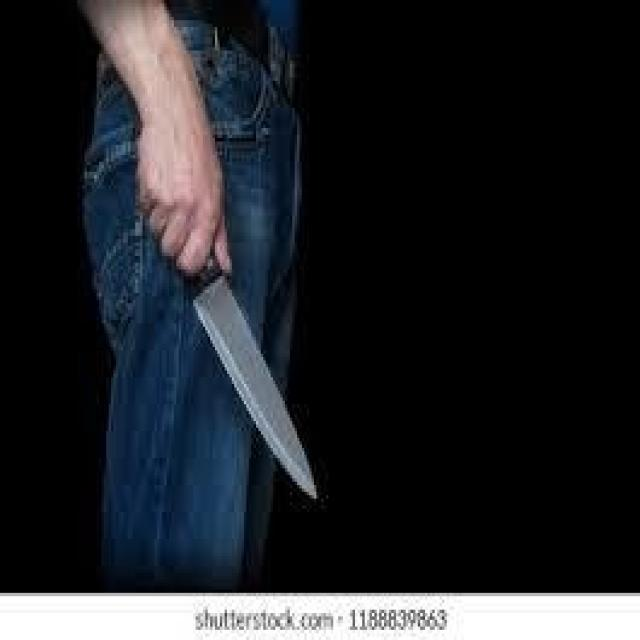senjata_tajam: (192, 258, 322, 501)
